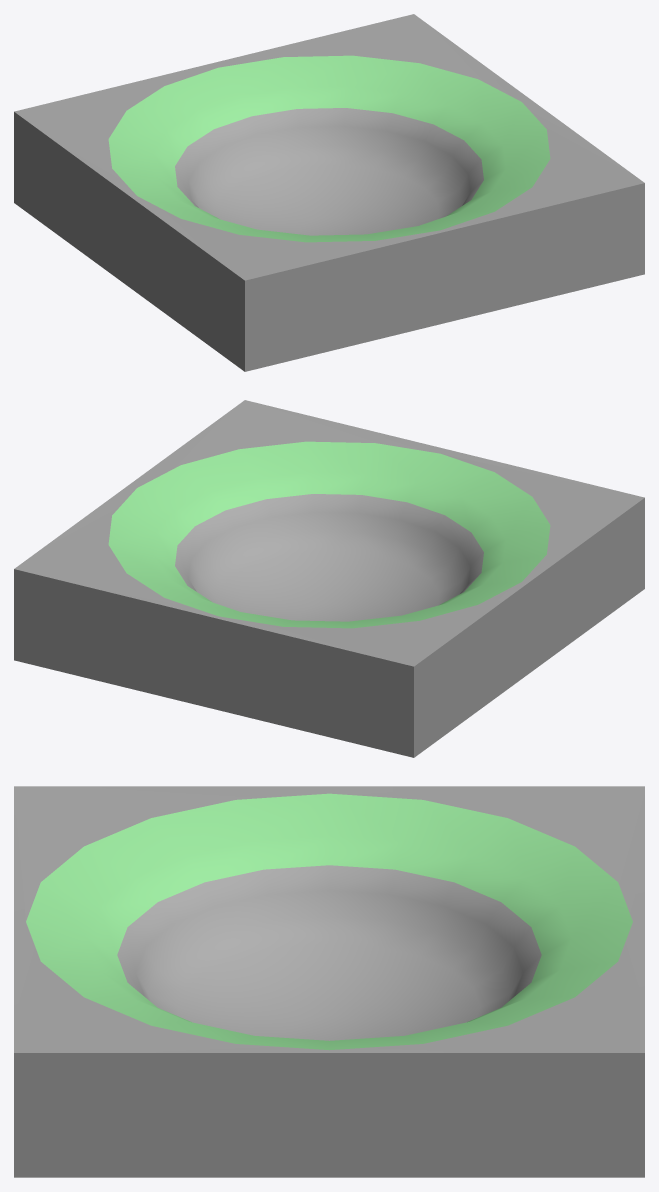
The model's file is oaza xd.fbx.
3 renders of one model, top to bottom at view 1: azimuth 30°, elevation 25°; view 2: azimuth 150°, elevation 25°; view 3: azimuth 270°, elevation 25°, orthographic. The views are drawn at different scales.
Parts seen in each view (by area): view 1: pCube2; view 2: pCube2; view 3: pCube2.
Boxes of the visible parts, bbox=[...] form: pCube2: bbox=[14, 14, 644, 371]; pCube2: bbox=[14, 400, 644, 757]; pCube2: bbox=[14, 786, 644, 1177].
Bounding box in the file's own units: 211 × 45.98 × 211.
